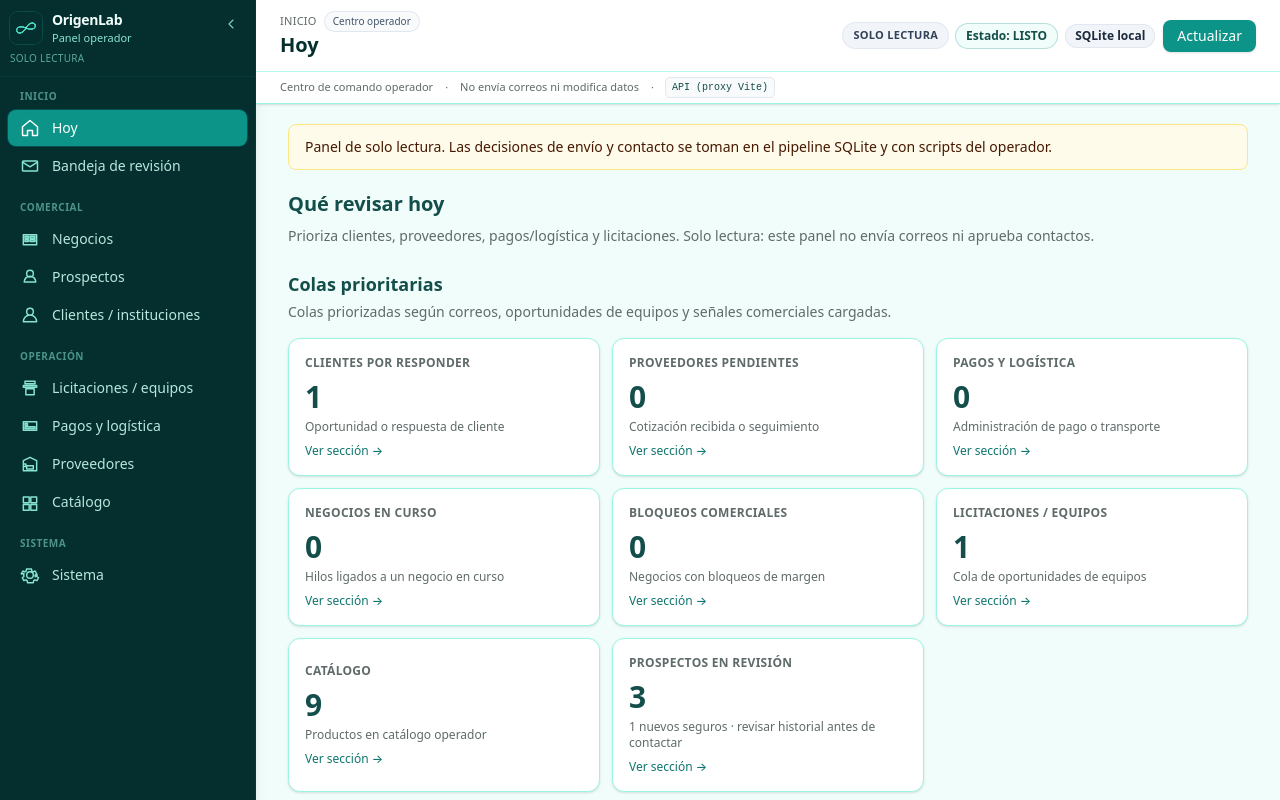
DashboardApp (legacy TodayPage tests) › opens read-only contact profile from inbox warm case email
Click the link "Bandeja de revisión" at x=100, y=166, box [20,156,181,176]
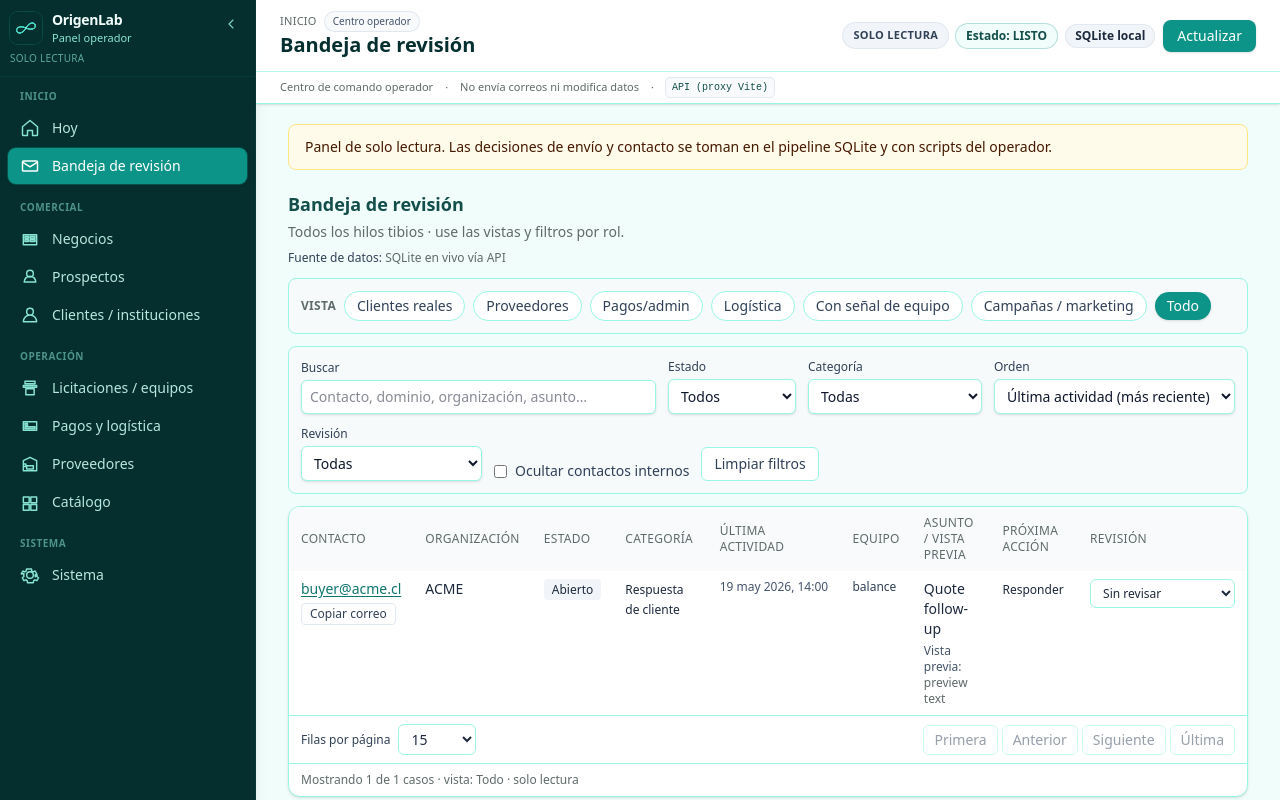
Result: the button "buyer@acme.cl" is shown
Click the button "buyer@acme.cl" at x=351, y=589, box [301,579,401,599]
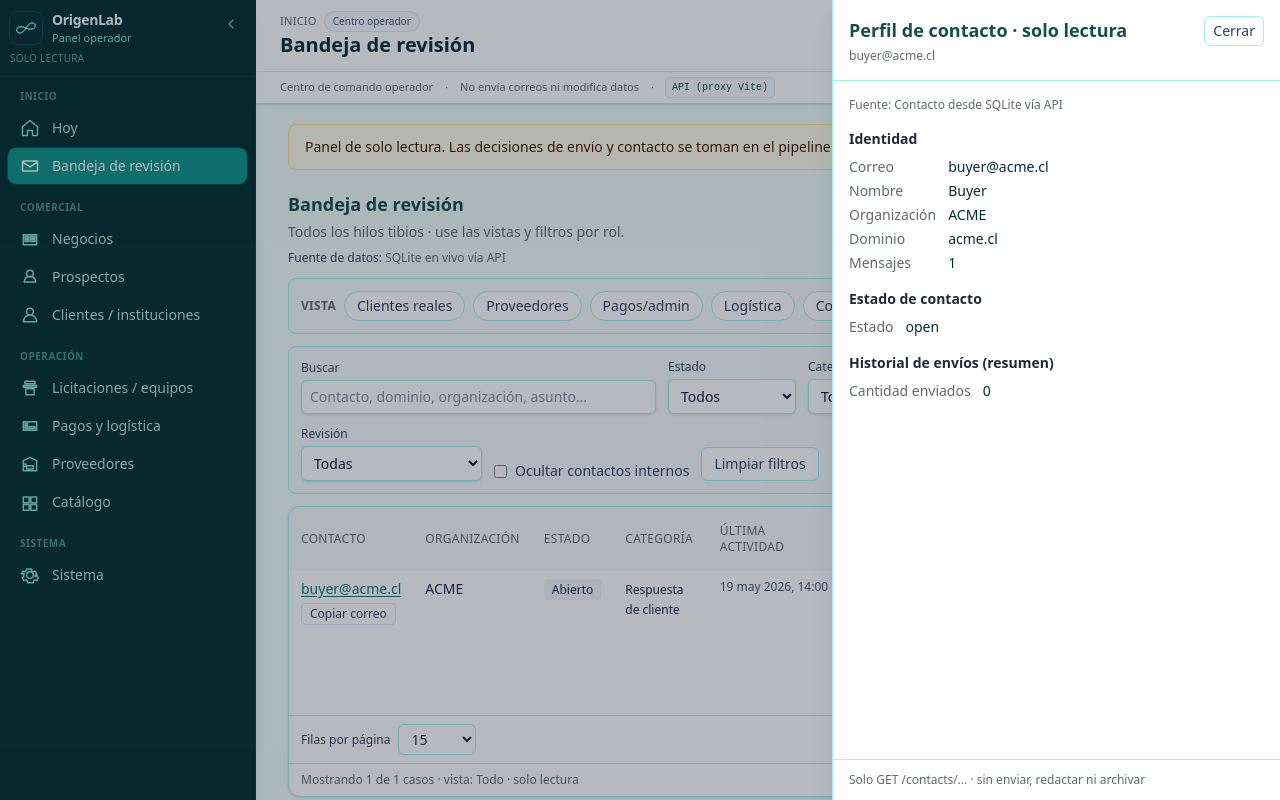
Result: the heading "Perfil de contacto · solo lectura" is shown at [849,16,1127,44]
Result: the text "Buyer" is shown at [948,181,987,200]
